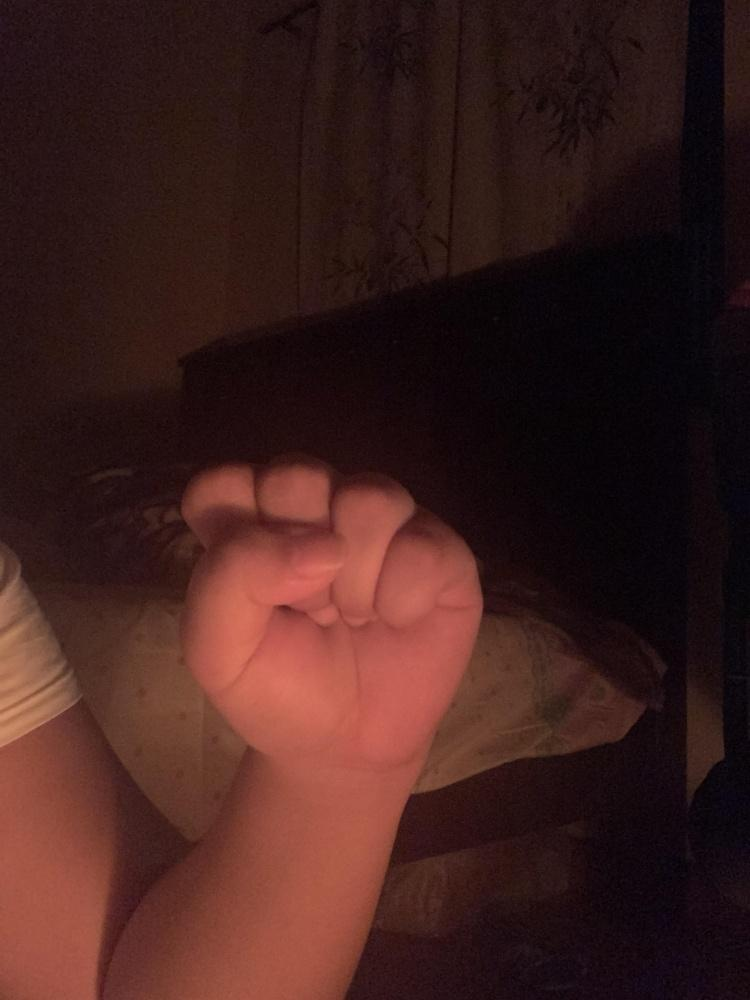s: (175, 446, 486, 773)
